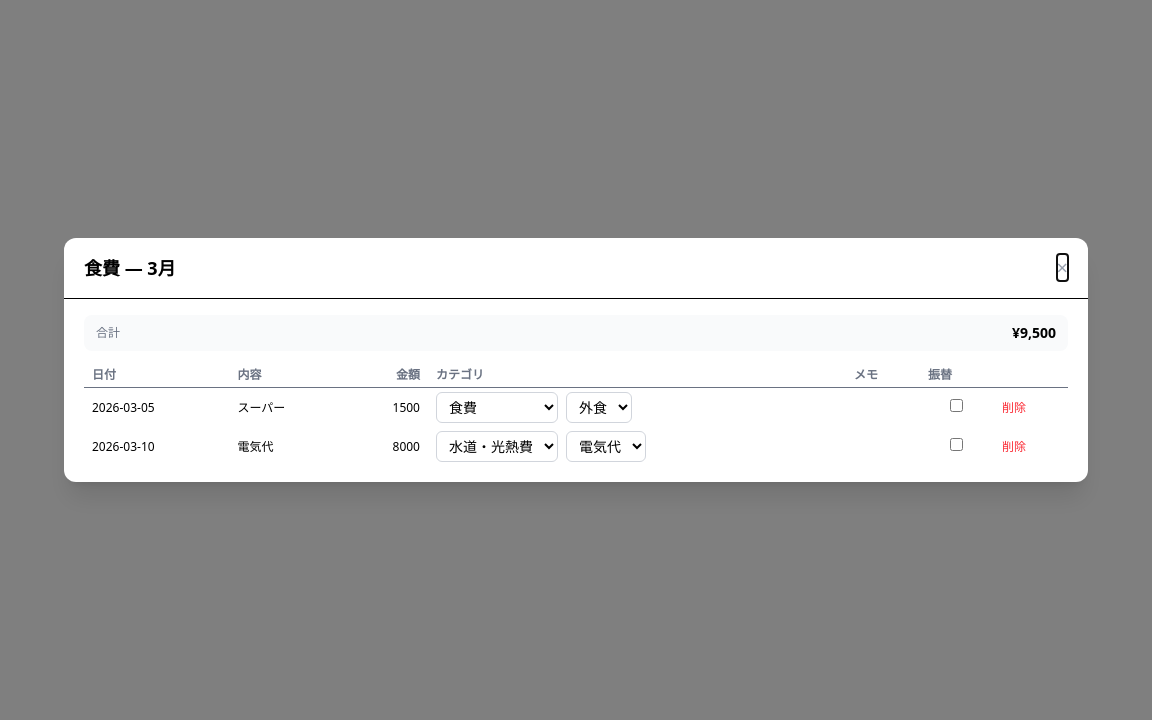
Scenario: BudgetItemMonthDetailModal › 取引を削除すると合計金額が再計算される
Expected: the button "スーパー" is shown, x1=237 y1=400 x2=285 y2=416
最初の行の削除ボタンをクリック（tx-1: ¥1500）
Click the button "削除" in the row of "2026-03-05".
click(1014, 408)  # box x1=1002 y1=400 x2=1026 y2=416
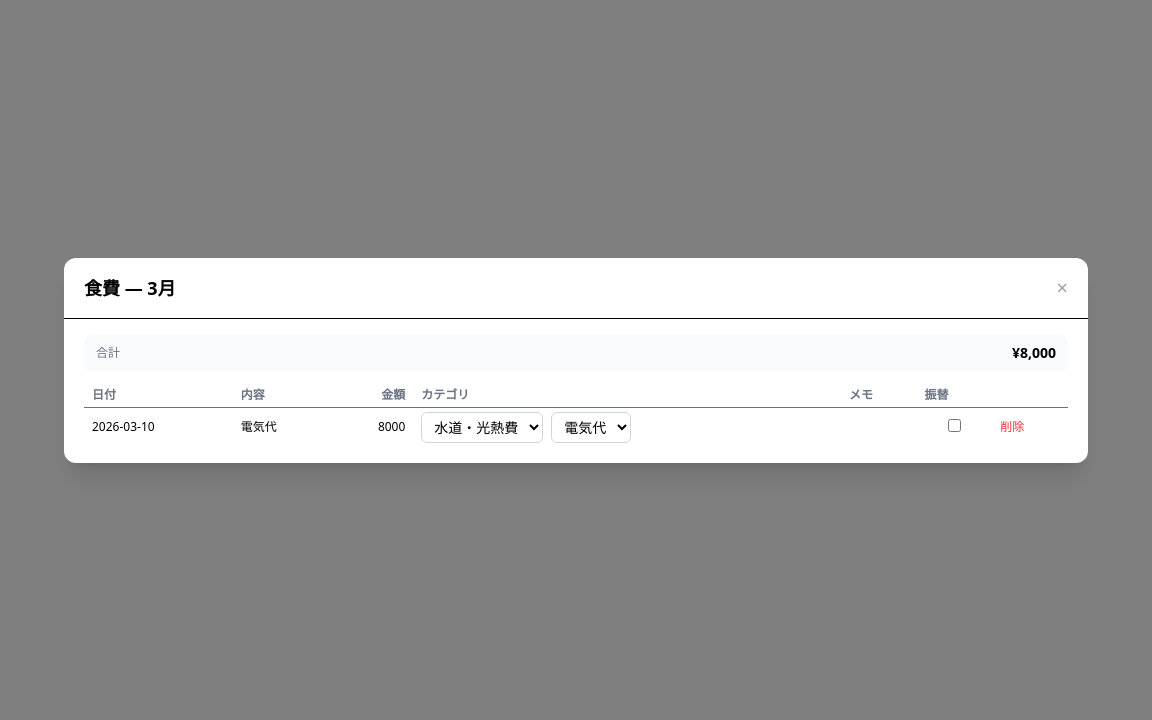
Expected: the button "スーパー" is gone
Expected: the text "¥8,000" is shown, x1=1012 y1=342 x2=1056 y2=362
